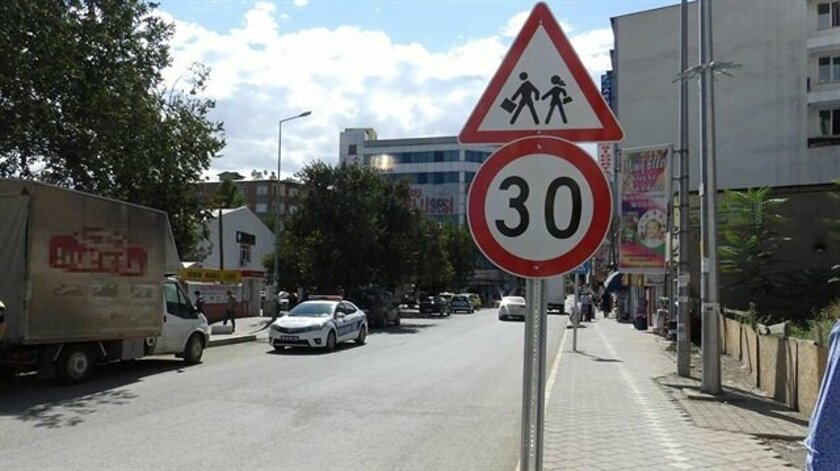30 Km Hiz Siniri: (465, 135, 614, 283)
